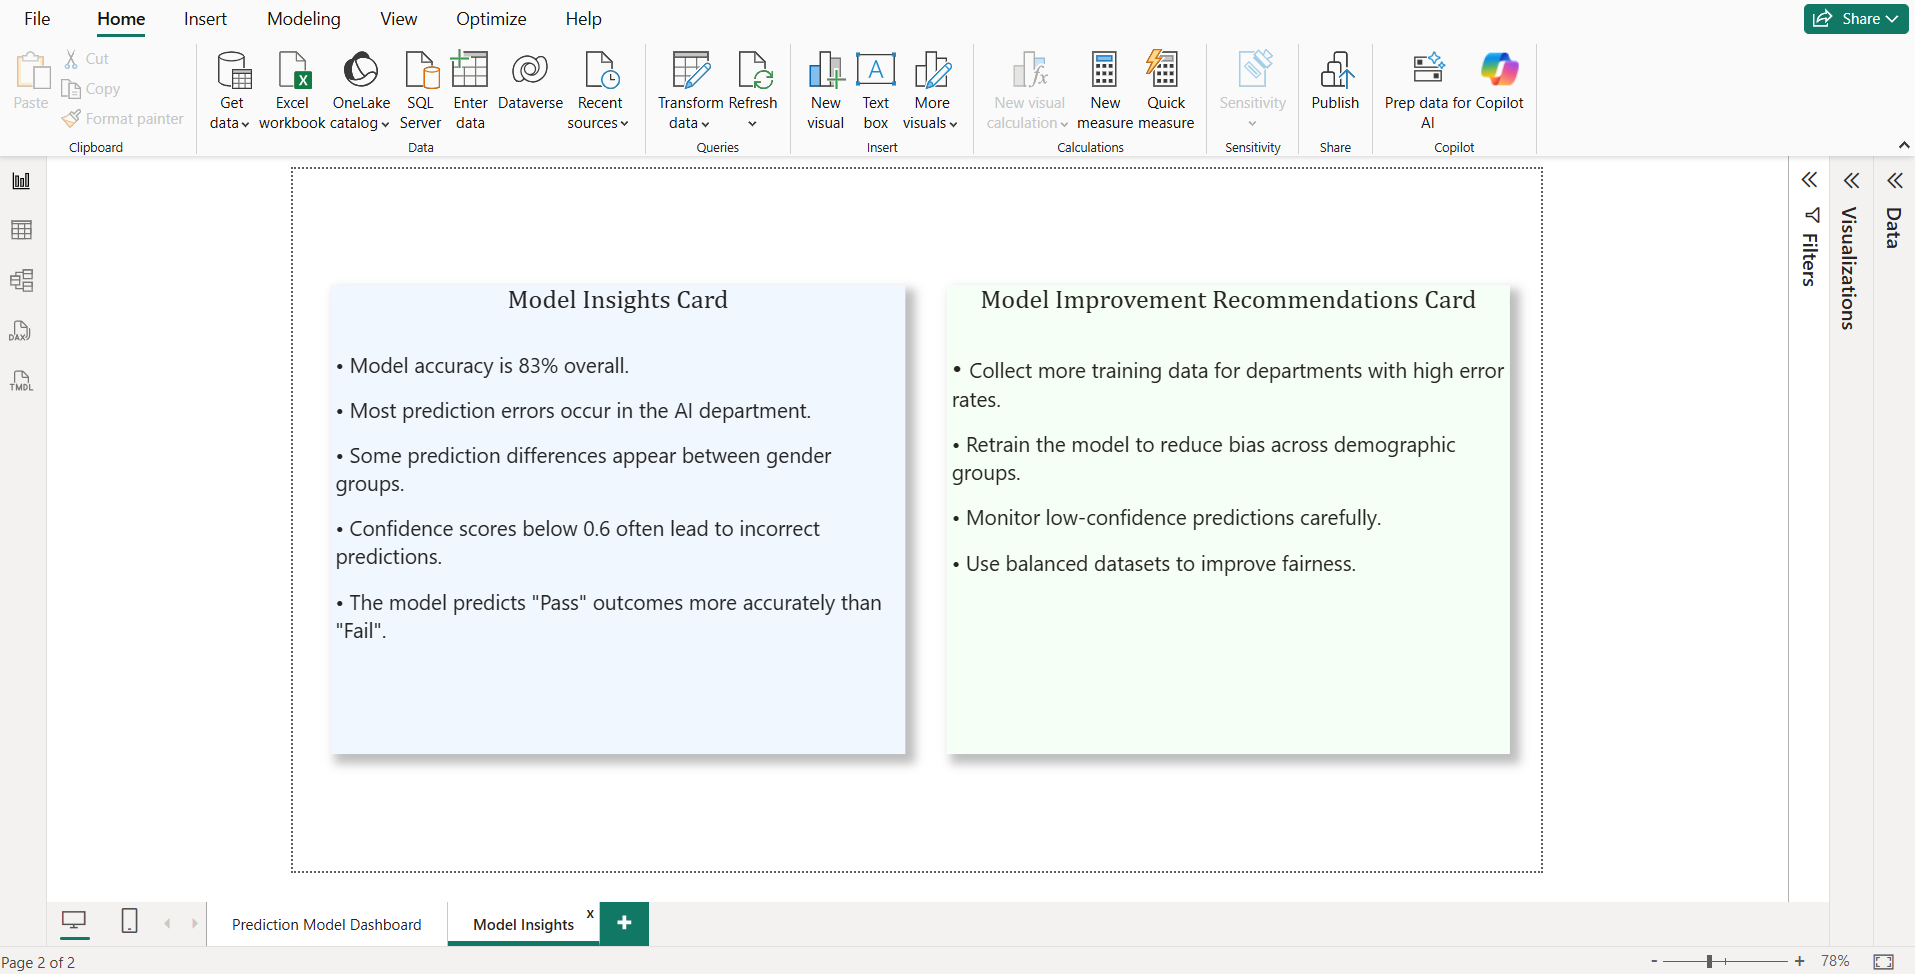

This screenshot's page, from the dashboard's own definition file:
{"tool":"powerbi","page":{"name":"Model Insights","canvas":[1280,720],"ordinal":1},"visuals":[{"type":"textbox","title":"Model Insights Card","box":[38.8,119.4,589.6,480.6],"z":0},{"type":"textbox","title":"Model Improvement Recommendations Card","box":[670.1,119.4,577.6,480.6],"z":1000}]}

Visuals, with their boxes on the page's 1280x720 design canvas (x1, y1, x2, y2). These are canvas units, not pixel positions in the 1915x974 screenshot, which may show the page scaled, cropped or inside an application window:
"Model Insights Card" textbox: (left=39, top=119, right=628, bottom=600)
"Model Improvement Recommendations Card" textbox: (left=670, top=119, right=1248, bottom=600)
